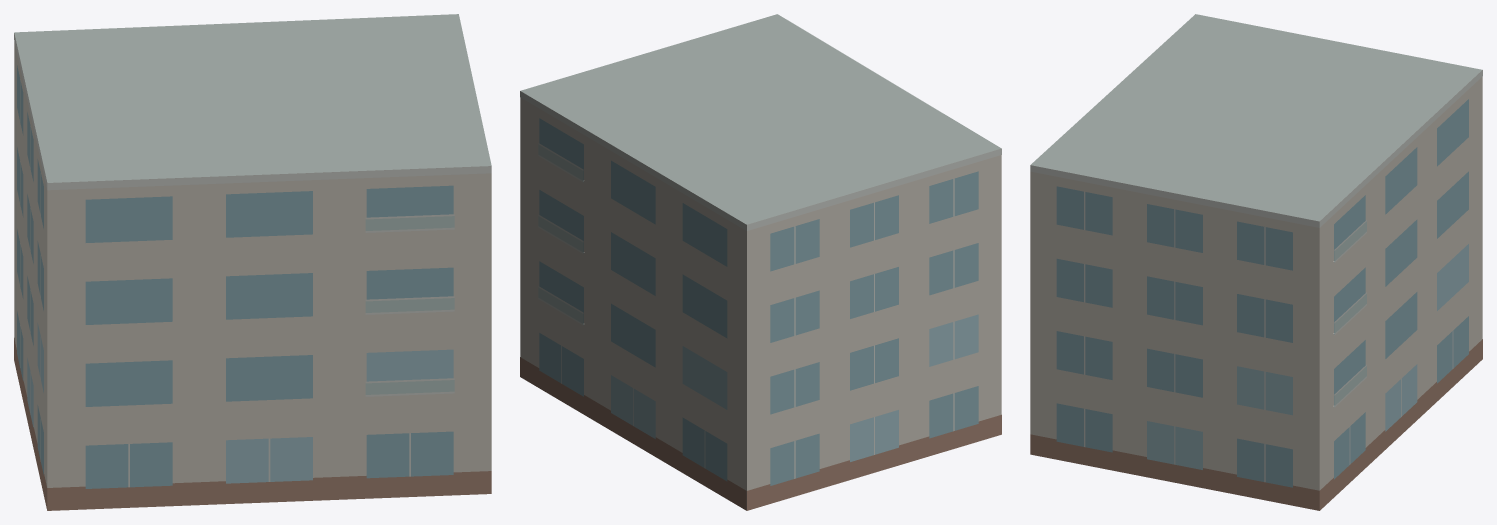
The model's file is survey-upis-32800275.glb.
The picture shows the model from 3 angles, left to right: view 1: azimuth 30°, elevation 25°; view 2: azimuth 150°, elevation 25°; view 3: azimuth 270°, elevation 25°; orthographic projection. The views are drawn at different scales.
Parts seen in each view (by area): view 1: survey-upis-32800275.tmp; view 2: survey-upis-32800275.tmp; view 3: survey-upis-32800275.tmp.
Part boxes in pixels (bbox=[...]): survey-upis-32800275.tmp: bbox=[14, 14, 491, 510]; survey-upis-32800275.tmp: bbox=[520, 14, 1001, 510]; survey-upis-32800275.tmp: bbox=[1030, 14, 1482, 510].
Bounding box in the file's own units: 16.92 × 11 × 15.6.
